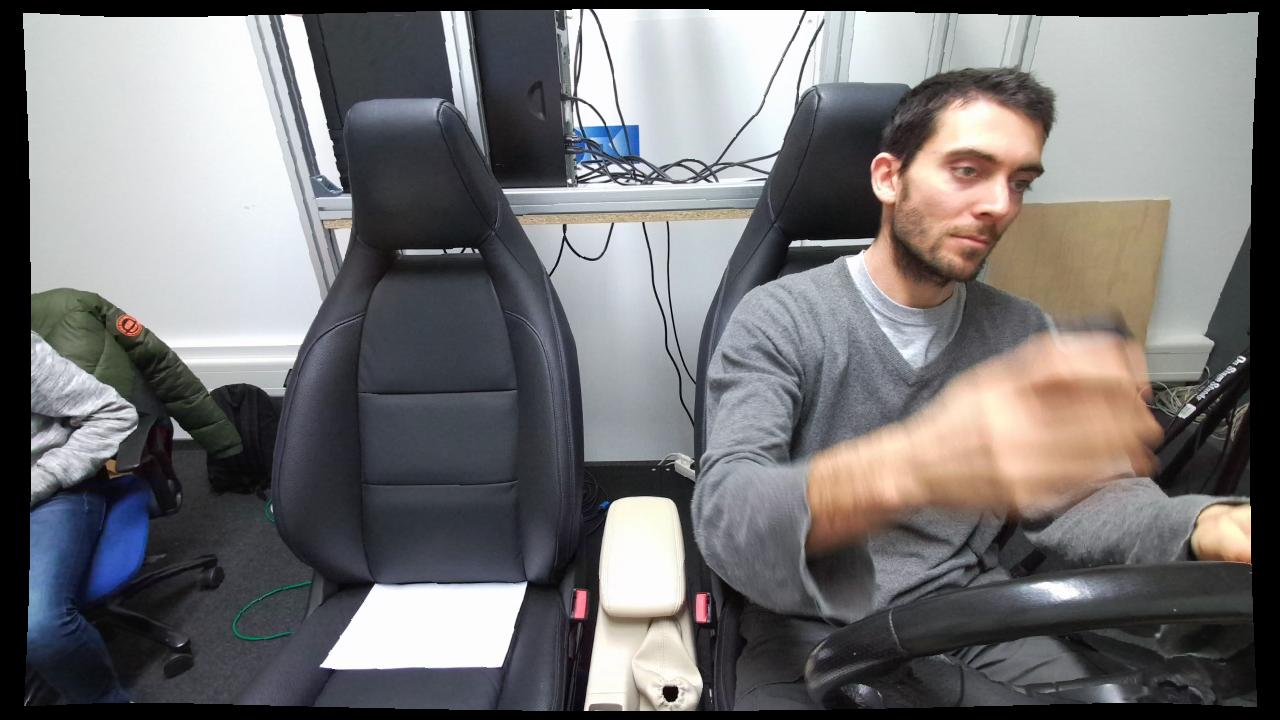Distracted: (694, 59, 1162, 707)
